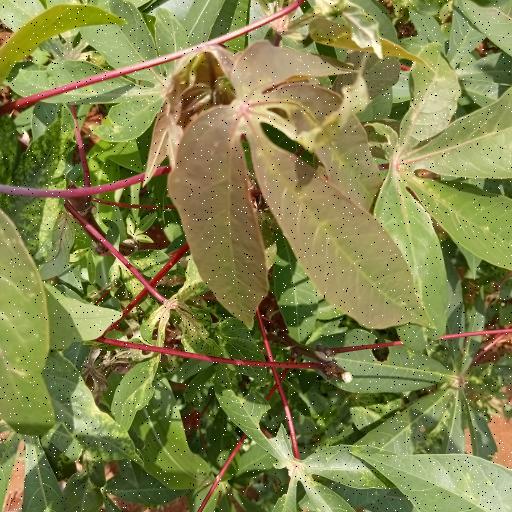Cassava_Healthy: (150, 39, 426, 332)
